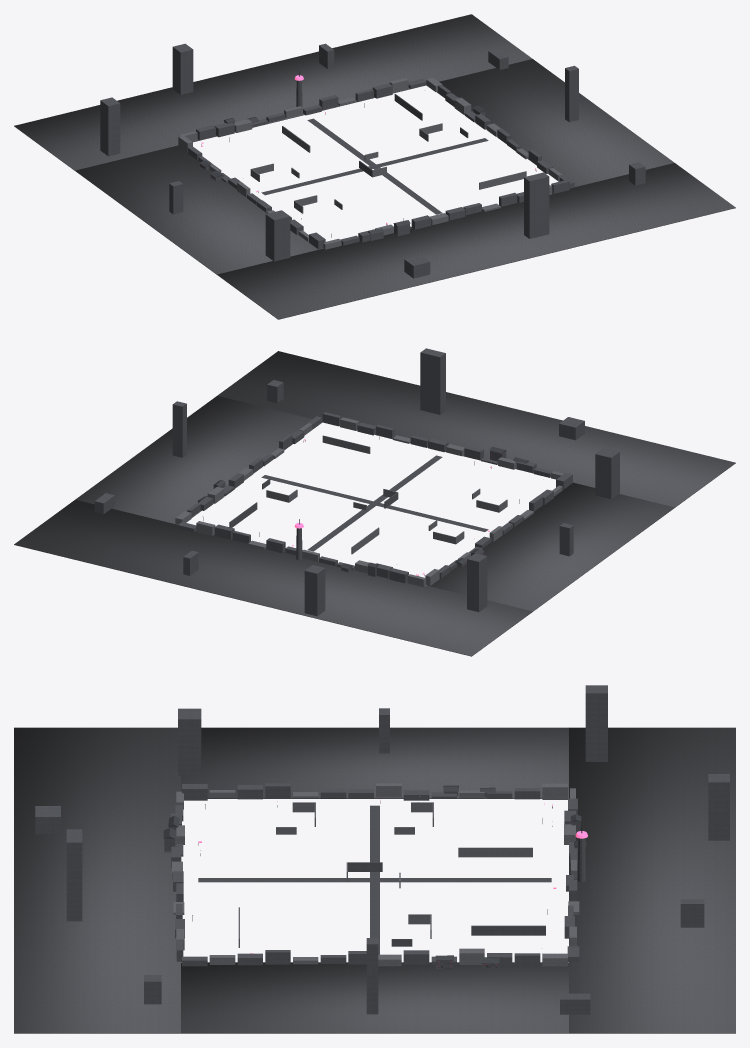
Rendered from yoichi-lod2.glb.
3 views of the same model, one above another, from view 1: azimuth 30°, elevation 25°; view 2: azimuth 150°, elevation 25°; view 3: azimuth 270°, elevation 25° (orthographic). The views are drawn at different scales.
Visible parts, largest first — view 1: HB_yoichi_LOD2_terrain, HB_yoichi_LOD2_wall_alt, HB_yoichi_LOD2_wall, HB_yoichi_LOD2_road; view 2: HB_yoichi_LOD2_terrain, HB_yoichi_LOD2_wall_alt, HB_yoichi_LOD2_wall, HB_yoichi_LOD2_road; view 3: HB_yoichi_LOD2_terrain, HB_yoichi_LOD2_wall_alt, HB_yoichi_LOD2_wall, HB_yoichi_LOD2_road, HB_yoichi_LOD2_trim.
Boxes of the visible parts, <box> form: HB_yoichi_LOD2_terrain: <box>14,14,735,319</box>; HB_yoichi_LOD2_wall_alt: <box>100,43,645,278</box>; HB_yoichi_LOD2_wall: <box>178,77,562,249</box>; HB_yoichi_LOD2_road: <box>261,118,488,214</box>; HB_yoichi_LOD2_terrain: <box>14,351,735,656</box>; HB_yoichi_LOD2_wall_alt: <box>94,348,619,616</box>; HB_yoichi_LOD2_wall: <box>175,417,563,587</box>; HB_yoichi_LOD2_road: <box>261,455,488,551</box>; HB_yoichi_LOD2_terrain: <box>14,727,735,1033</box>; HB_yoichi_LOD2_wall_alt: <box>35,685,729,1014</box>; HB_yoichi_LOD2_wall: <box>172,783,579,966</box>; HB_yoichi_LOD2_road: <box>198,805,551,954</box>; HB_yoichi_LOD2_trim: <box>163,785,586,968</box>.
Bounding box in the file's own units: 562 × 68.62 × 562.
Materials: 8 (6 with a texture image).
